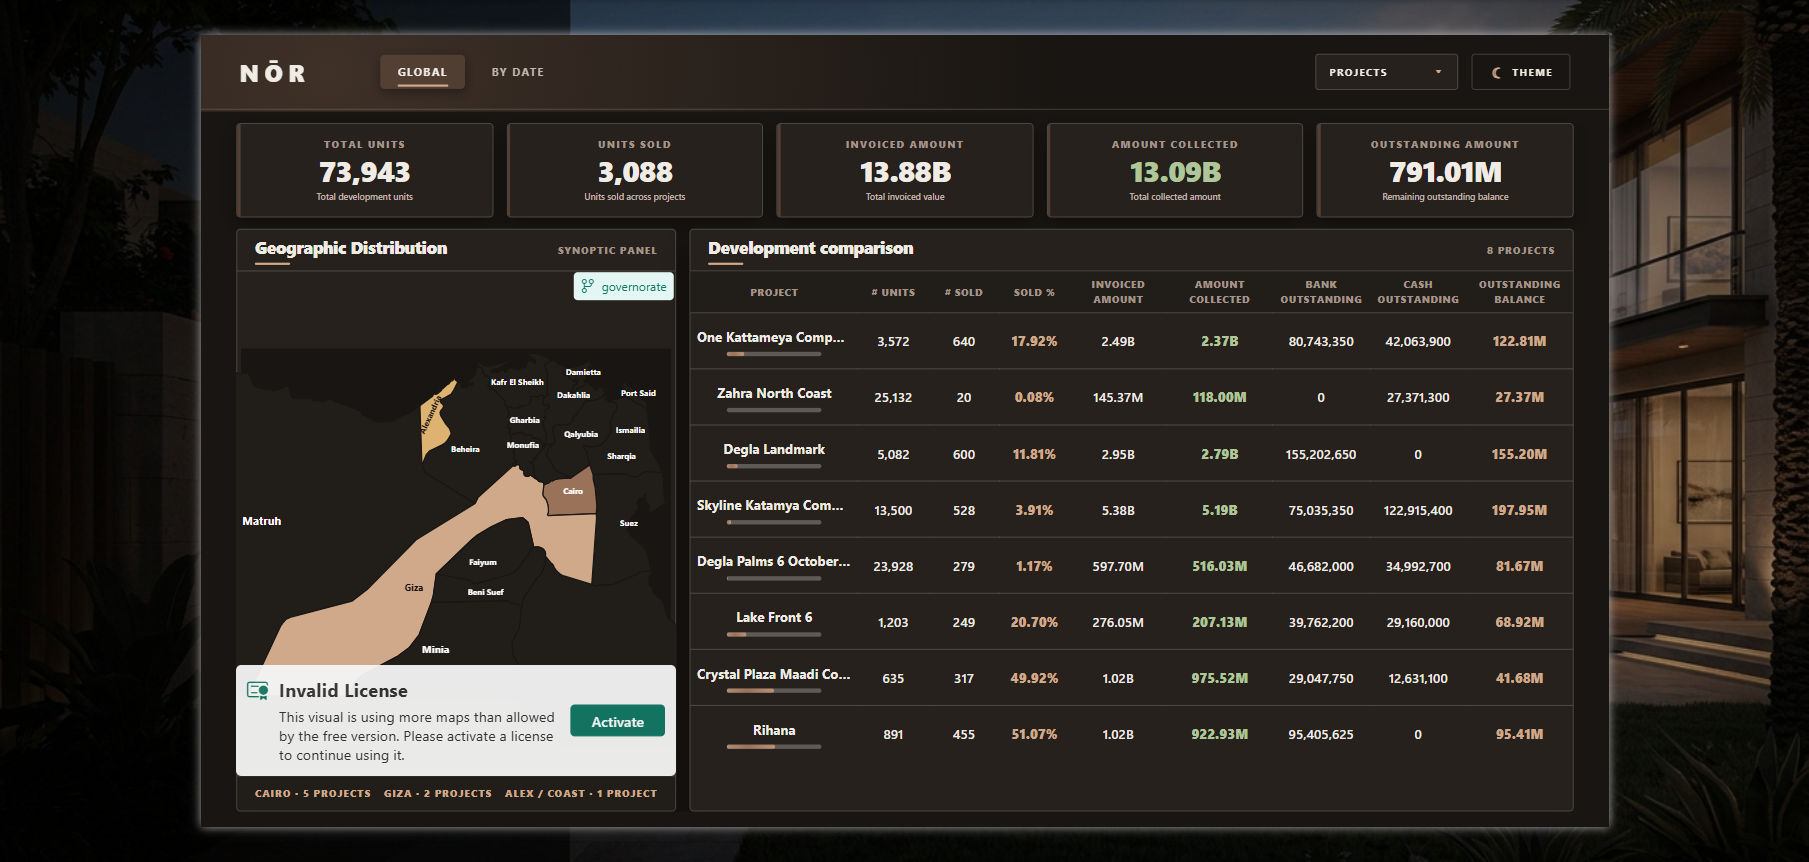

The page's visual inventory and layout, read from the dashboard file:
{"tool":"powerbi","page":{"name":"Global Summary","canvas":[1280,720],"ordinal":1},"visuals":[{"type":"htmlContent443BE3AD55E043BF878BED274D3A6855","fields":{"content":["HTML Visuals.HTML_Global_Summary"]},"box":[0,0,1280,720],"z":0}]}

Visuals, with their boxes on the page's 1280x720 design canvas (x1, y1, x2, y2). These are canvas units, not pixel positions in the 1809x862 screenshot, which may show the page scaled, cropped or inside an application window:
htmlContent443BE3AD55E043BF878BED274D3A6855 - HTML Visuals.HTML_Global_Summary: (0, 0, 1280, 720)
